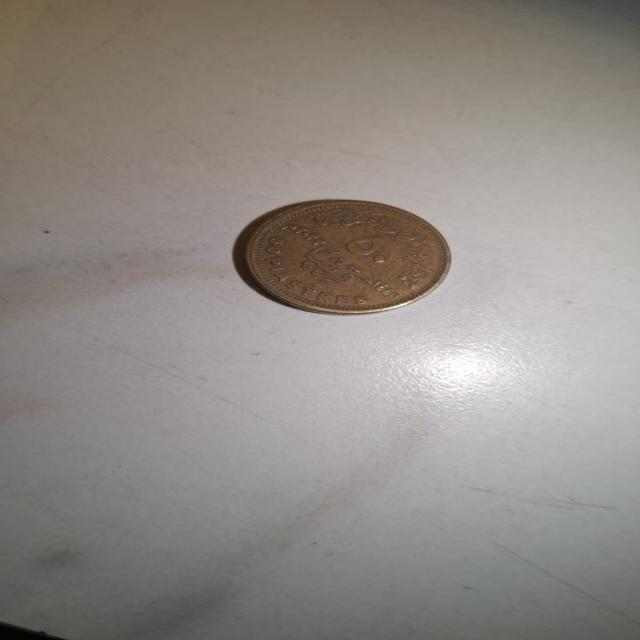Half Pound: (227, 198, 465, 320)
